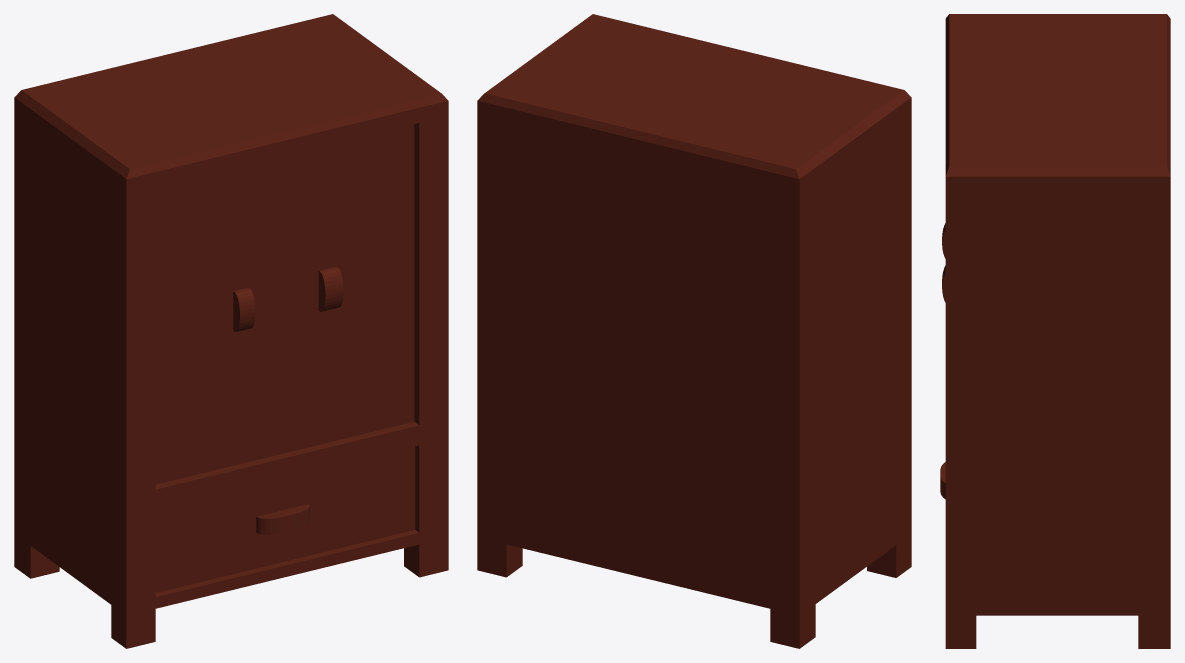
Rendered from armoireEnvironmental.fbx.
3 renders of one model, left to right at view 1: azimuth 30°, elevation 25°; view 2: azimuth 150°, elevation 25°; view 3: azimuth 270°, elevation 25°, orthographic.
Visible parts, largest first — view 1: Cube; view 2: Cube; view 3: Cube.
Boxes of the visible parts, x1=… form: Cube: x1=14, y1=14, x2=448, y2=648; Cube: x1=477, y1=14, x2=911, y2=648; Cube: x1=940, y1=14, x2=1170, y2=648.
Size of the model in its own units: 1028 by 1454 by 633.
